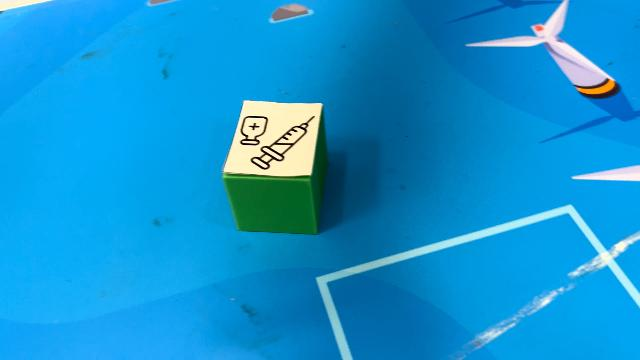syringe: (223, 100, 327, 236)
